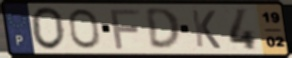4: (227, 7, 261, 52)
D: (144, 6, 184, 52)
F: (108, 7, 143, 51)
K: (189, 8, 223, 50)
O: (29, 6, 68, 52), (67, 7, 103, 51)
